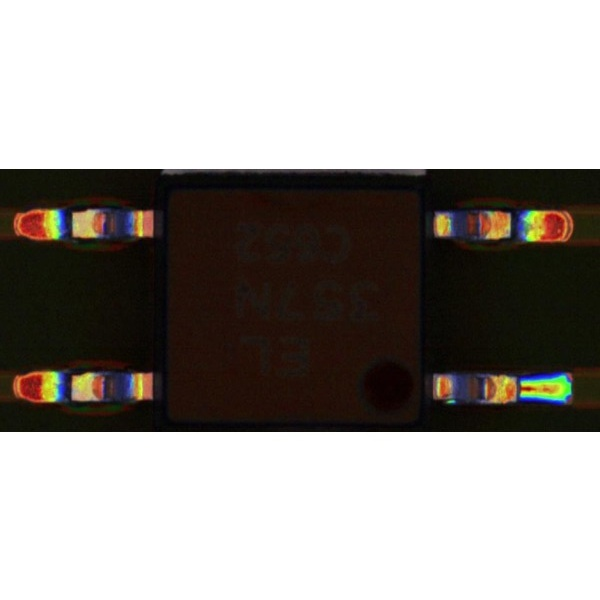Bad_podu: (510, 380, 536, 396)
